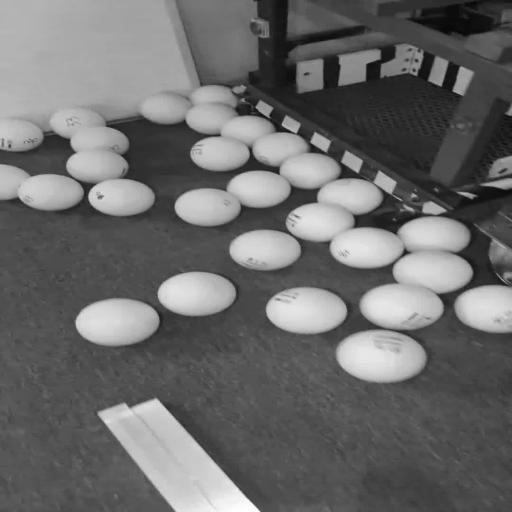fuel: (336, 329, 427, 383), (75, 298, 159, 346), (359, 283, 443, 330), (266, 287, 347, 334), (157, 272, 236, 316), (393, 251, 473, 294), (329, 227, 404, 269), (229, 230, 301, 271), (454, 285, 512, 333), (286, 202, 355, 242), (397, 216, 471, 253), (175, 188, 241, 227), (317, 178, 384, 215), (89, 179, 155, 216), (18, 174, 84, 211), (227, 171, 291, 208), (280, 153, 341, 189), (190, 136, 249, 172), (66, 150, 128, 183), (252, 132, 310, 167), (221, 115, 276, 147), (50, 108, 106, 139), (139, 92, 191, 125), (186, 103, 238, 135), (71, 127, 129, 155), (0, 118, 44, 152), (190, 85, 238, 108), (0, 164, 30, 200)
